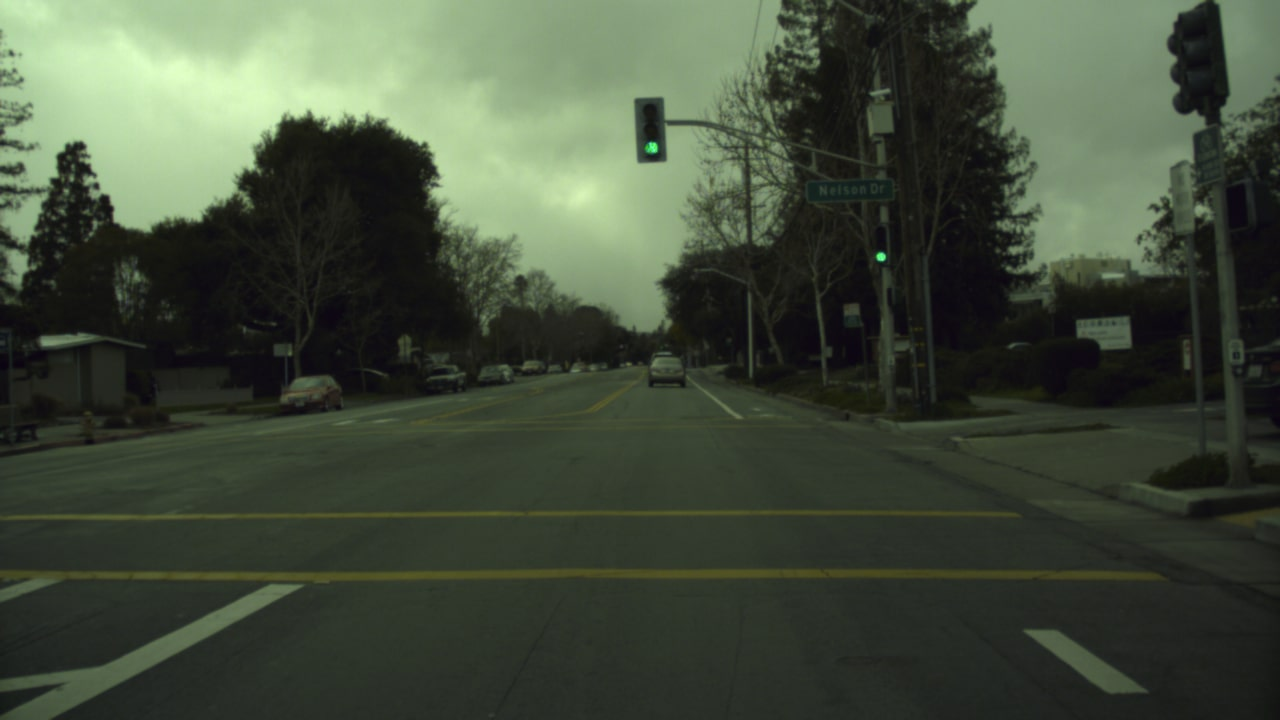signal: (637, 100, 666, 158), (872, 238, 890, 267)
